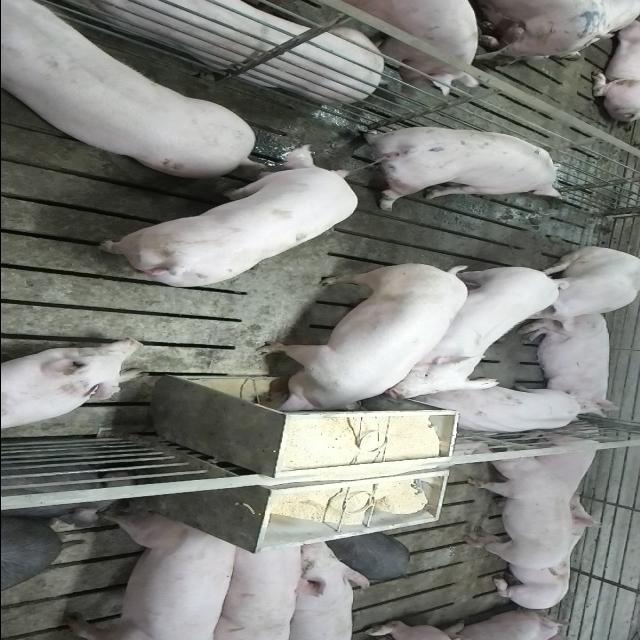Feeding: (245, 267, 469, 421)
Lateral_lying: (53, 0, 455, 102), (514, 310, 621, 417)
Sitting: (508, 246, 640, 333)
Standing: (1, 0, 258, 174), (88, 148, 354, 292), (378, 260, 564, 398), (61, 509, 242, 638), (345, 123, 567, 210), (311, 0, 480, 95), (463, 450, 574, 574), (204, 532, 308, 638), (278, 538, 368, 640)
Sternal_lying: (482, 494, 610, 609), (0, 337, 146, 434), (523, 426, 605, 499)
